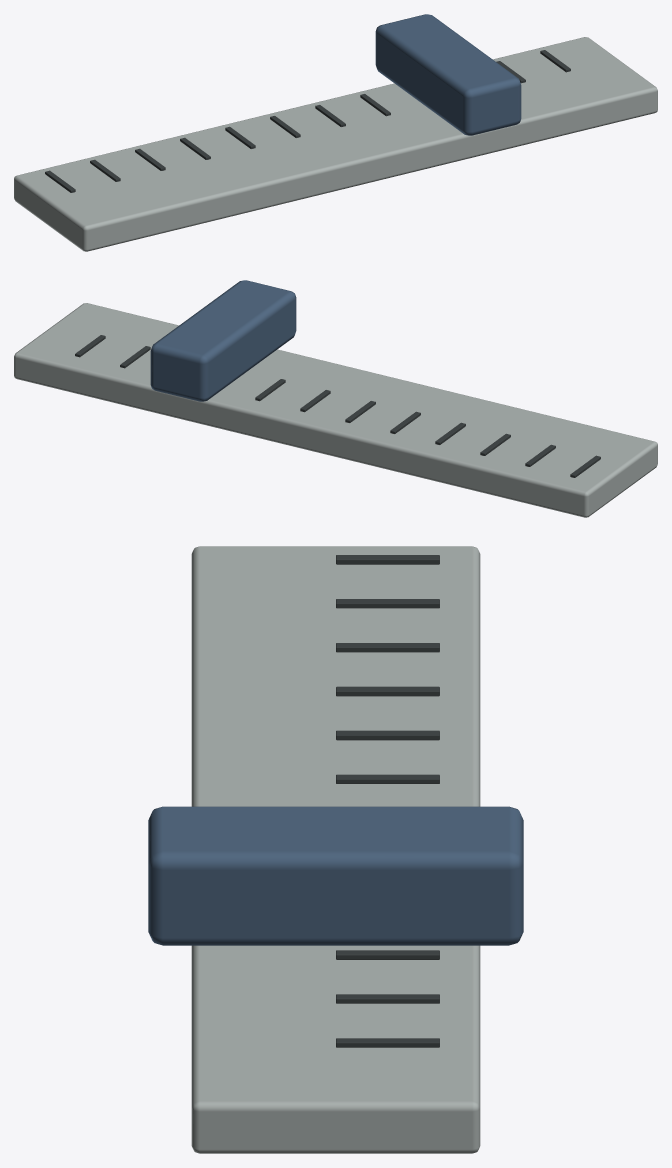
Rendered from spacecraft-parachute-packing-hall-spacecraft-parachute-cc275b8c__32109.glb.
3 views of the same model, one above another, from view 1: azimuth 30°, elevation 25°; view 2: azimuth 150°, elevation 25°; view 3: azimuth 270°, elevation 25° (orthographic). The views are drawn at different scales.
Parts seen in each view (by area): view 1: spacecraft-parachute-packing-hall-seam-allowance-gauge; view 2: spacecraft-parachute-packing-hall-seam-allowance-gauge; view 3: spacecraft-parachute-packing-hall-seam-allowance-gauge.
Boxes of the visible parts, x1,y1,x2,y2 form: spacecraft-parachute-packing-hall-seam-allowance-gauge: (14,14,657,251); spacecraft-parachute-packing-hall-seam-allowance-gauge: (14,280,657,517); spacecraft-parachute-packing-hall-seam-allowance-gauge: (148,546,523,1153).
Size of the model in its own units: 0.23 by 0.03 by 0.065.
